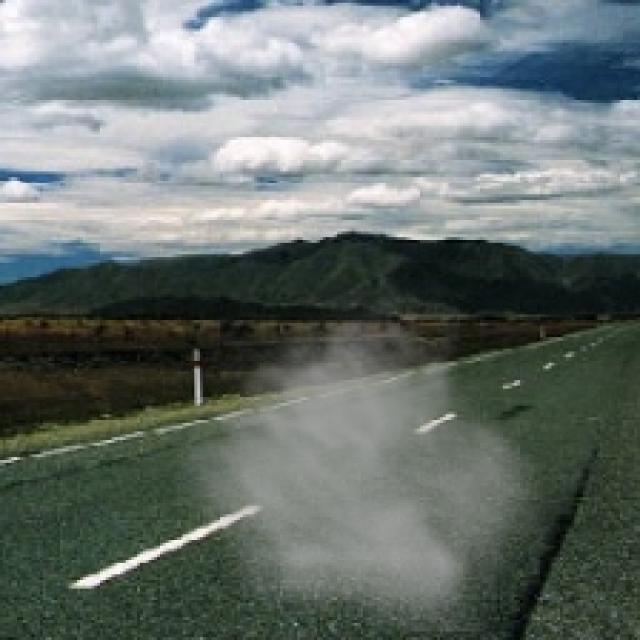Smoke: (162, 279, 558, 632)
